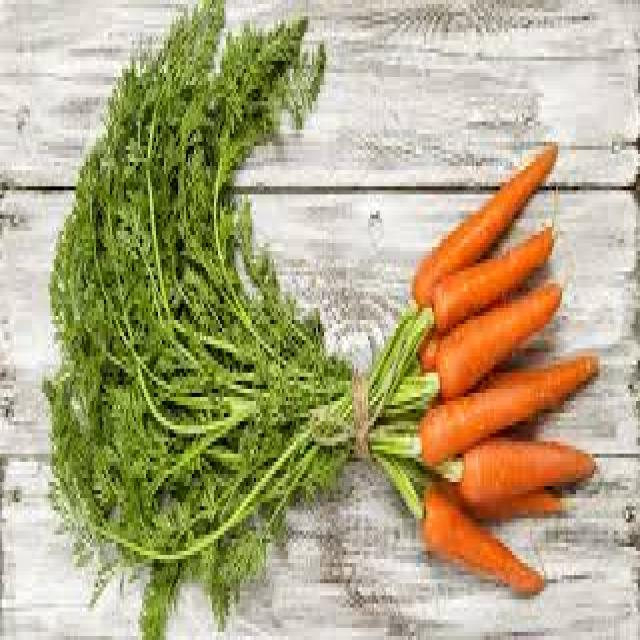Carrot: (462, 430, 604, 509)
